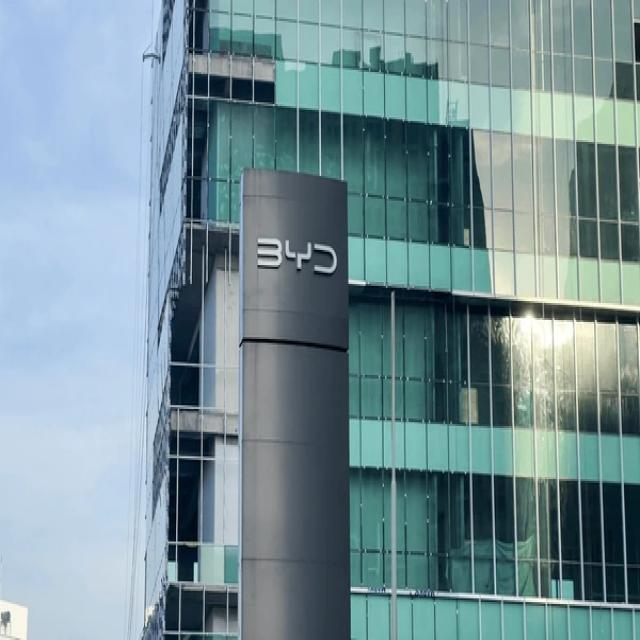byd: (251, 232, 342, 282)
